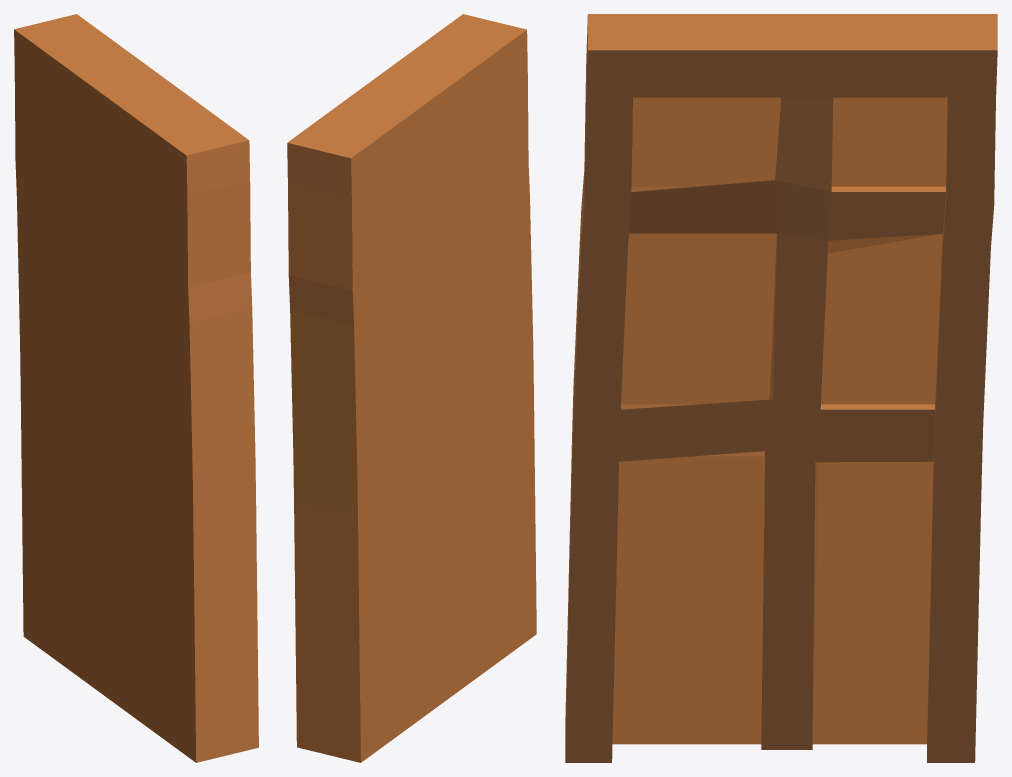
File: Pintu.fbx
3 views of the same model, side by side, from view 1: azimuth 30°, elevation 25°; view 2: azimuth 150°, elevation 25°; view 3: azimuth 270°, elevation 25° (orthographic). The views are drawn at different scales.
Visible parts, largest first — view 1: Cube; view 2: Cube; view 3: Cube.
Part boxes in pixels (box(x1,y1,x2,y2)): Cube: box(14, 14, 258, 762); Cube: box(287, 14, 536, 762); Cube: box(565, 14, 997, 762).
Bounding box in the file's own units: 121 × 1107 × 609.
